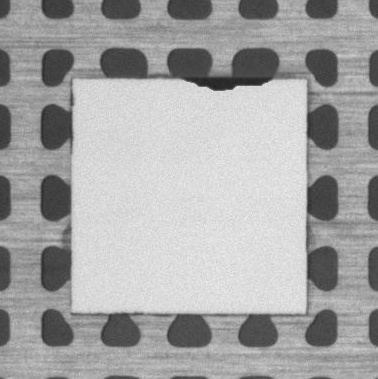DIE_BROKEN: (184, 71, 270, 95)
